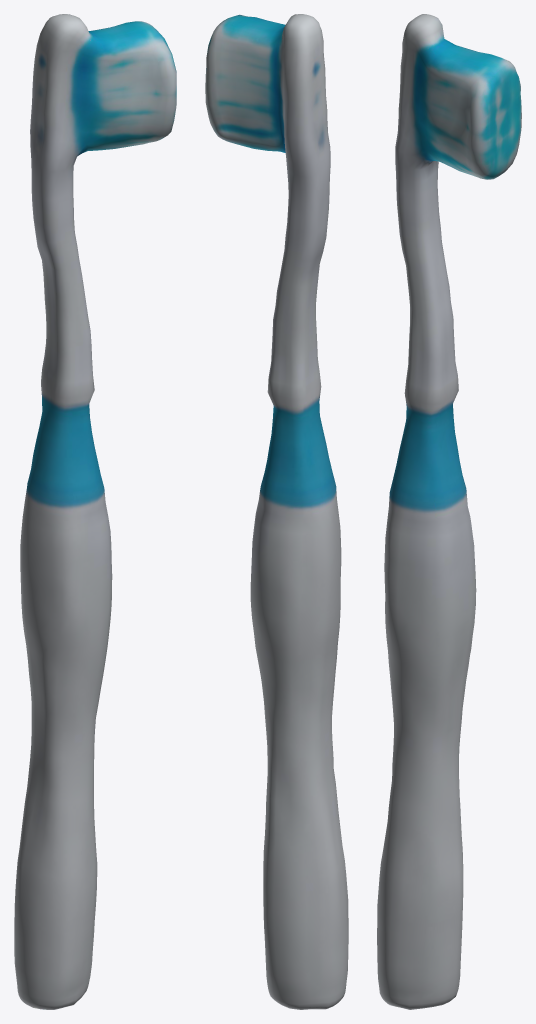
The model's file is toothbrush.fbx.
The picture shows the model from 3 angles, left to right: view 1: azimuth 30°, elevation 25°; view 2: azimuth 150°, elevation 25°; view 3: azimuth 330°, elevation 25°; orthographic projection.
Parts seen in each view (by area): view 1: mesh; view 2: mesh; view 3: mesh.
Boxes of the visible parts, x1,y1,x2,y2 form: mesh: (14, 14, 176, 1009); mesh: (205, 14, 348, 1009); mesh: (377, 14, 521, 1009).
Size of the model in its own units: 13.97 by 99.99 by 9.82.
